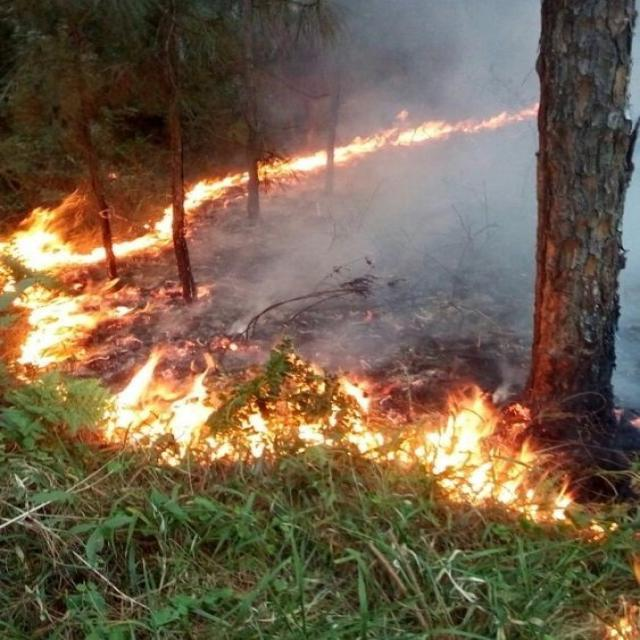Fire: (1, 99, 576, 528), (584, 518, 618, 544), (607, 616, 631, 640)
Smoke: (86, 1, 540, 404), (614, 14, 640, 406)
